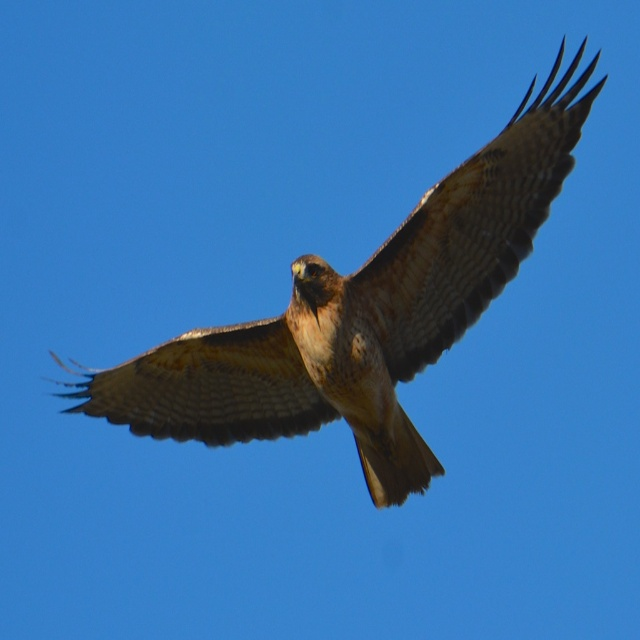Eagle: (38, 32, 612, 520)
